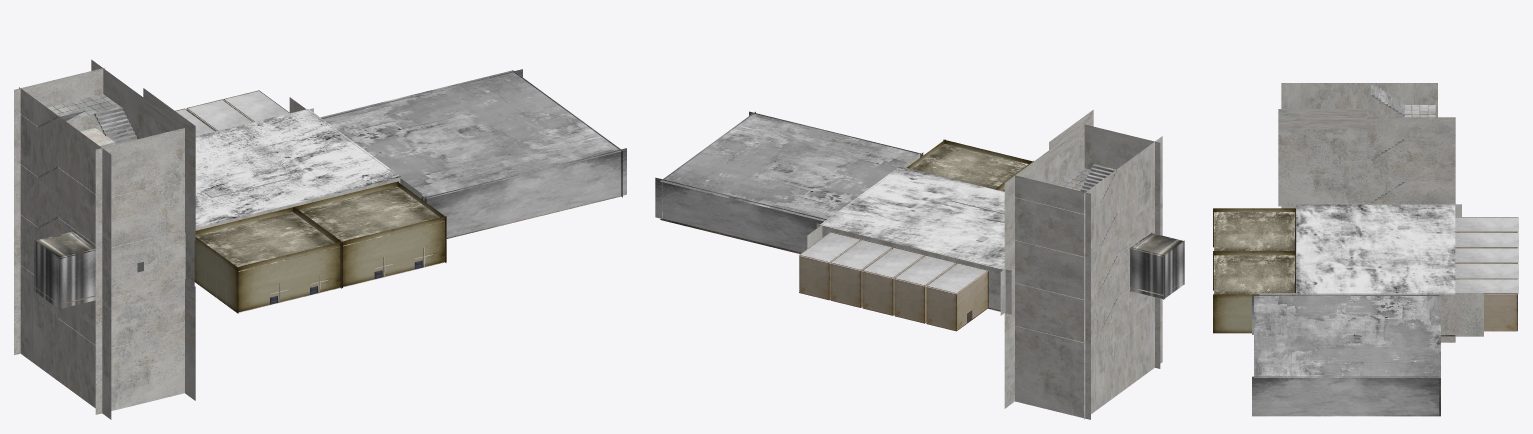
The model's file is офис.fbx.
3 renders of one model, left to right at view 1: azimuth 30°, elevation 25°; view 2: azimuth 150°, elevation 25°; view 3: azimuth 270°, elevation 25°, orthographic. The views are drawn at different scales.
Parts seen in each view (by area): view 1: Plane.763, Plane.583, Plane.764, Plane.761, Plane.581, Plane.754, Plane.654, Plane.656, Plane.756, Plane.771, Cube.1323, Plane.773 (+10 smaller); view 2: Plane.771, Plane.583, Plane.764, Plane.761, Plane.582, Plane.763, Plane.772, Plane.656, Plane.773, Plane.758, Plane.765, Cube.1323 (+13 smaller); view 3: Plane.583, Plane.761, Plane.773, Plane.772, Plane.368, Plane.764, Plane.656, Plane.756, Plane.760, Plane.653, Plane.682, Cube.1323 (+9 smaller).
Part boxes in pixels (bbox=[...]): Plane.763: bbox=[95, 128, 185, 414]; Plane.583: bbox=[320, 70, 622, 198]; Plane.764: bbox=[19, 87, 111, 419]; Plane.761: bbox=[195, 109, 401, 227]; Plane.581: bbox=[423, 148, 626, 237]; Plane.754: bbox=[237, 241, 341, 312]; Plane.654: bbox=[342, 216, 446, 286]; Plane.656: bbox=[299, 186, 444, 246]; Plane.756: bbox=[195, 212, 340, 271]; Plane.771: bbox=[14, 68, 104, 354]; Cube.1323: bbox=[20, 94, 185, 350]; Plane.773: bbox=[143, 88, 195, 239]; Plane.771: bbox=[1013, 175, 1090, 419]; Plane.583: bbox=[660, 113, 921, 221]; Plane.764: bbox=[1084, 136, 1162, 419]; Plane.761: bbox=[820, 166, 1004, 269]; Plane.582: bbox=[655, 177, 826, 252]; Plane.763: bbox=[1084, 124, 1160, 368]; Plane.772: bbox=[1004, 150, 1049, 408]; Plane.656: bbox=[911, 144, 1028, 188]; Plane.773: bbox=[1049, 110, 1093, 186]; Plane.758: bbox=[816, 223, 1011, 314]; Plane.765: bbox=[1131, 233, 1184, 299]; Cube.1323: bbox=[1014, 164, 1154, 342]; Plane.583: bbox=[1254, 296, 1440, 377]; Plane.761: bbox=[1296, 204, 1455, 294]; Plane.773: bbox=[1278, 109, 1367, 206]; Plane.772: bbox=[1367, 117, 1455, 342]; Plane.368: bbox=[1252, 376, 1439, 416]; Plane.764: bbox=[1281, 83, 1437, 117]; Plane.656: bbox=[1214, 255, 1294, 294]; Plane.756: bbox=[1214, 212, 1294, 250]; Plane.760: bbox=[1259, 293, 1483, 336]; Plane.653: bbox=[1213, 294, 1259, 333]; Plane.682: bbox=[1484, 293, 1517, 331]; Cube.1323: bbox=[1296, 84, 1436, 203].
Bounding box in the file's own units: 2712 × 1848 × 1558.
Materials: 64 (62 with a texture image).
